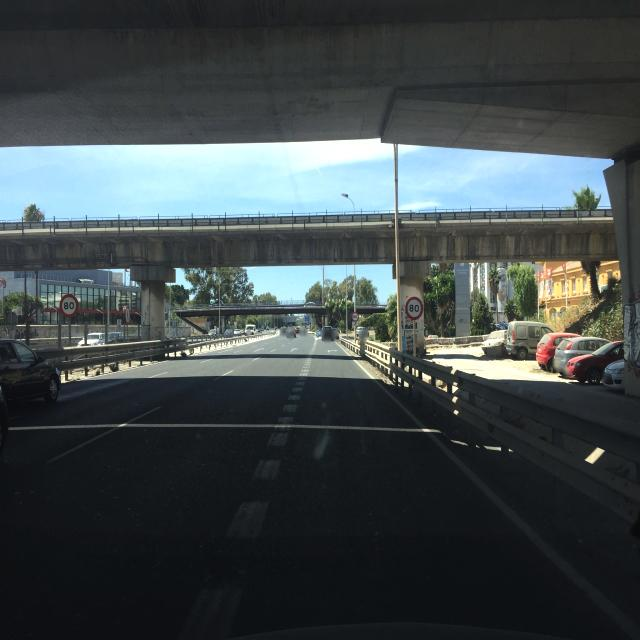car: (0, 338, 61, 410), (564, 340, 626, 385), (552, 336, 611, 376), (504, 321, 552, 360), (536, 332, 582, 371), (602, 353, 636, 394), (600, 353, 626, 392), (0, 365, 9, 460), (481, 329, 509, 358), (78, 332, 104, 346), (105, 332, 127, 342), (321, 326, 334, 342), (222, 328, 236, 336), (245, 326, 257, 334)
